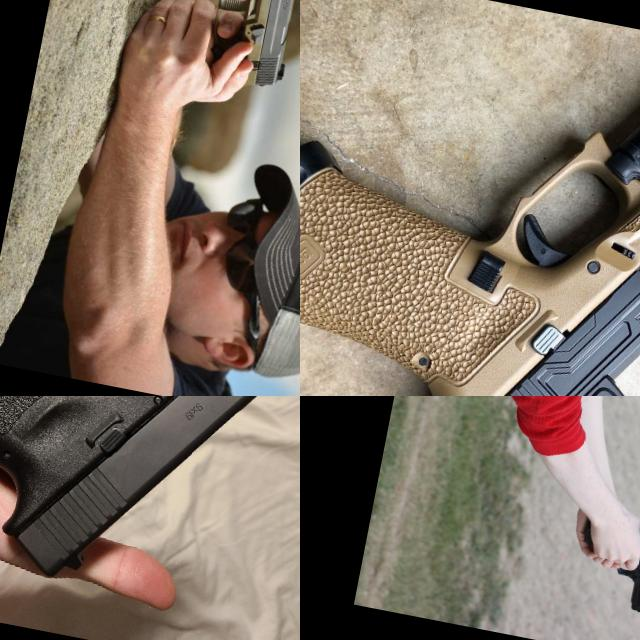handgun: (300, 0, 640, 396), (0, 396, 300, 628), (179, 0, 300, 97), (563, 509, 640, 621)
